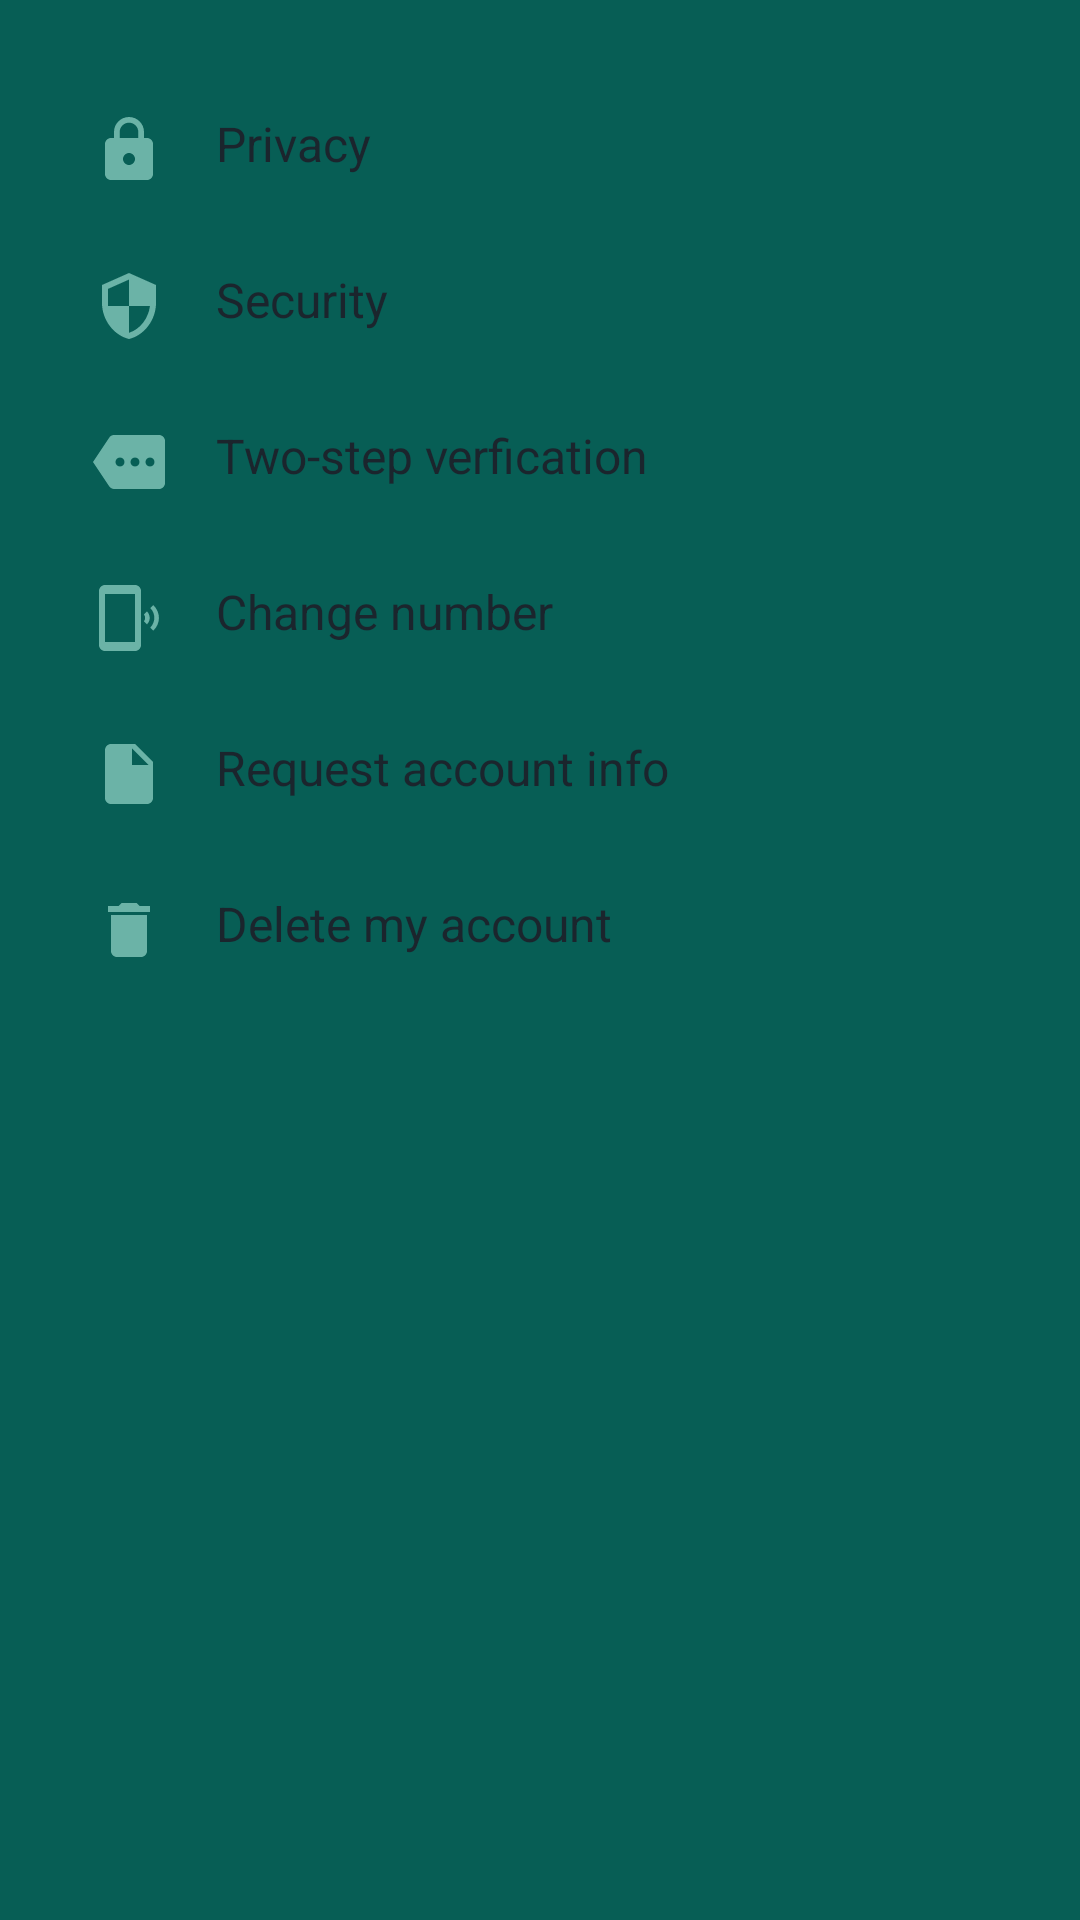

Icon bounding boxes for this 1080px×1920px phone screenshot, format (x1, y1, x2, y2):
insert drive file: (105, 744, 153, 804)
lock: (105, 117, 153, 180)
more: (93, 435, 165, 489)
phonelink ring: (99, 585, 159, 651)
